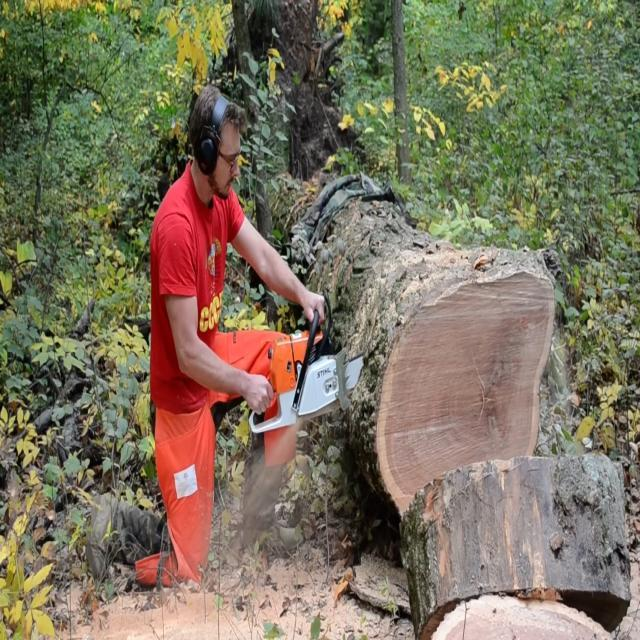Chainsaw: (232, 278, 398, 444)
